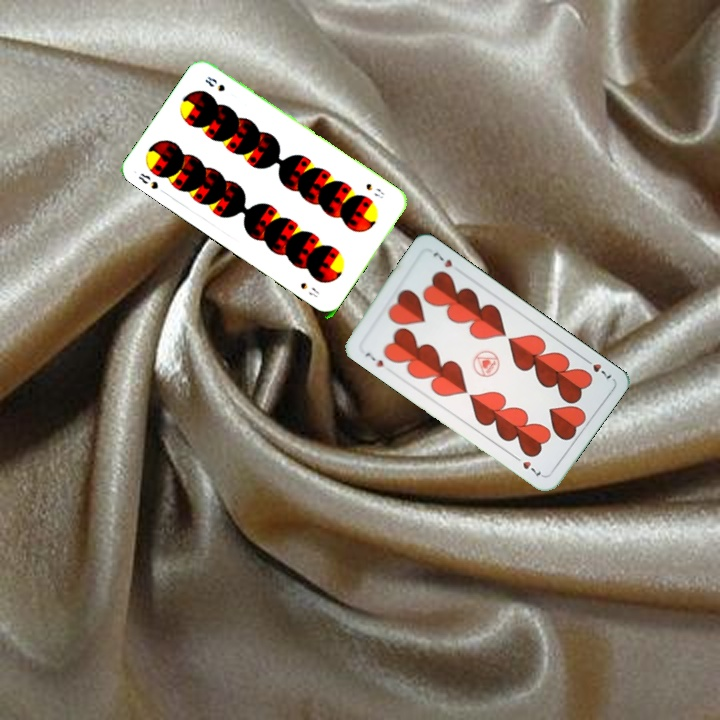H7: (579, 353, 614, 382), (361, 348, 386, 370)
S8: (134, 169, 161, 192), (362, 179, 388, 201)
